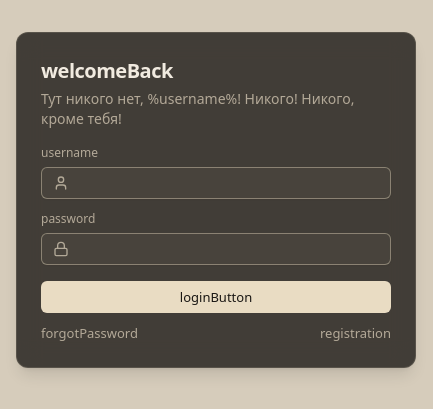
it: Login outcomes › explains a 403 saying something else entirely
Step 1. Type "reader" into the field labelled "username" → x=216, y=183, box [41,167,391,199]
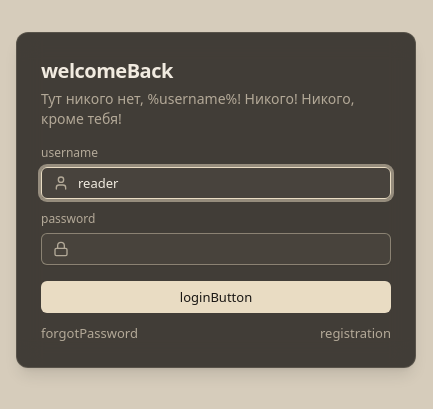
Step 2. Type "secret" into the password field labelled "password" → x=216, y=249, box [41,233,391,265]
Then press Enter
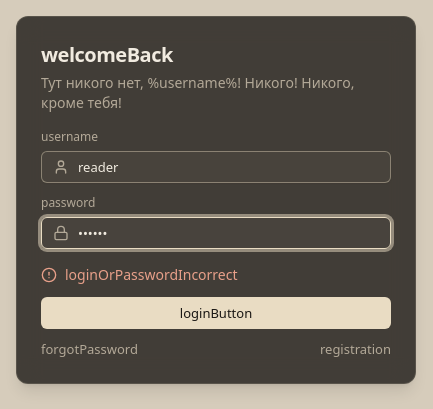
Check: the message reads "loginOrPasswordIncorrect", box [65,265,238,284]
